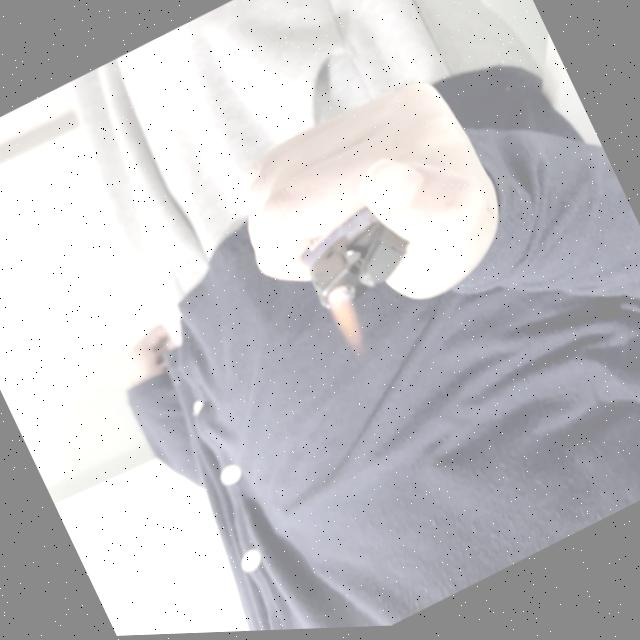Fire: (320, 283, 376, 364)
